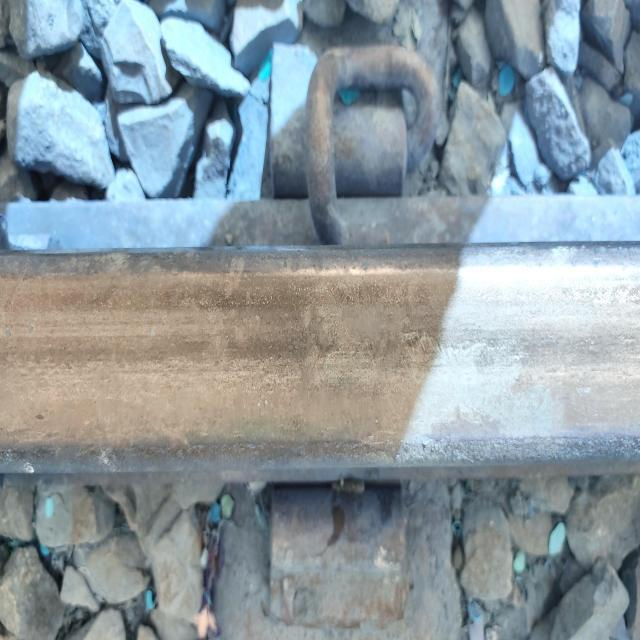Good Fasteners: (266, 40, 467, 253)
Missing Fastener: (252, 468, 419, 638)
